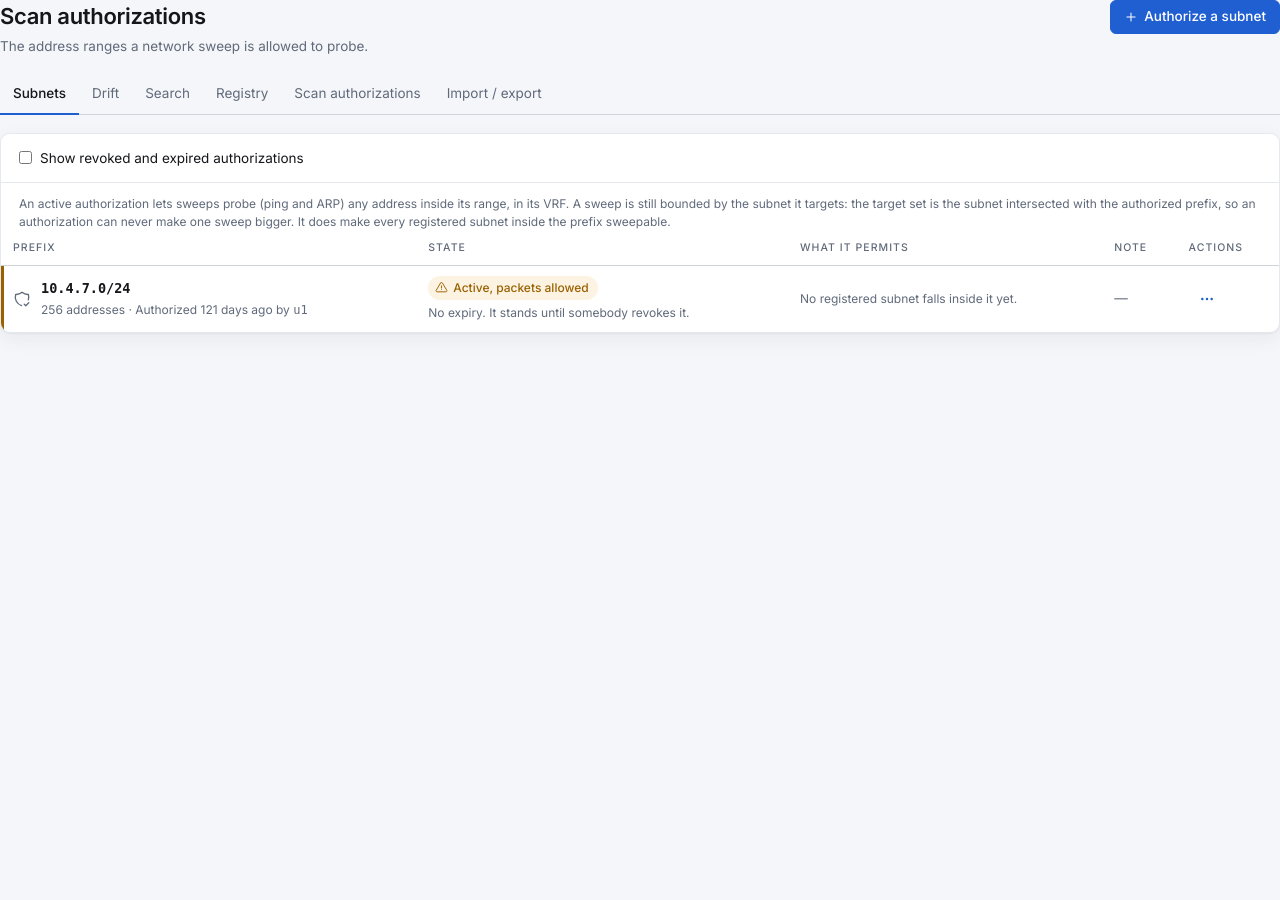
Test: a failure the user must be told about is announced, and is a sentence › believes a server that explained itself in plain text
Click the button named "More actions for " at (1206, 298), box [1188,280,1224,316]
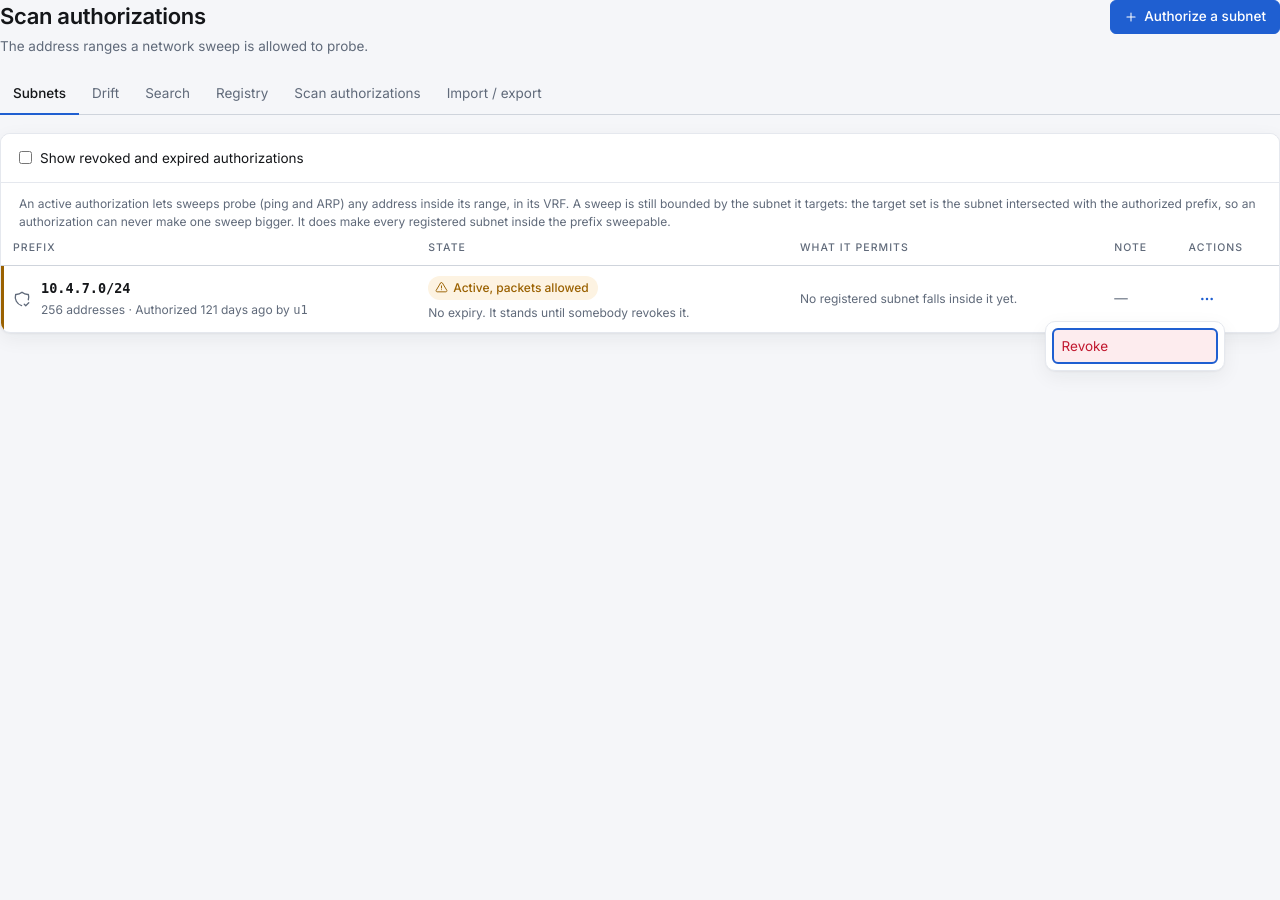
Click the menu item "Revoke" at (1134, 346), box [1052,328,1218,364]
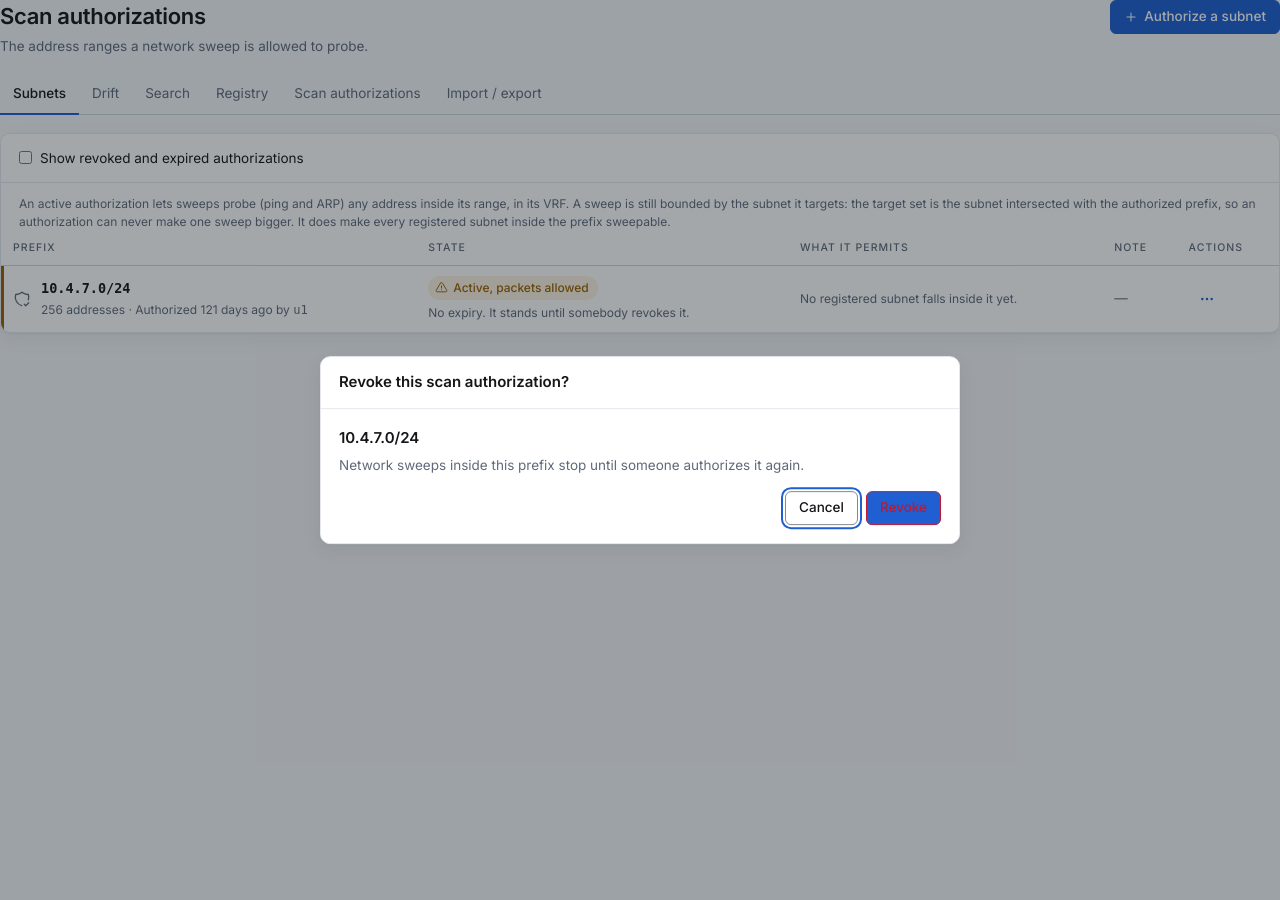
# Revoking asks first.
Click the button "Revoke" at (903, 508), box [866,491,941,525]
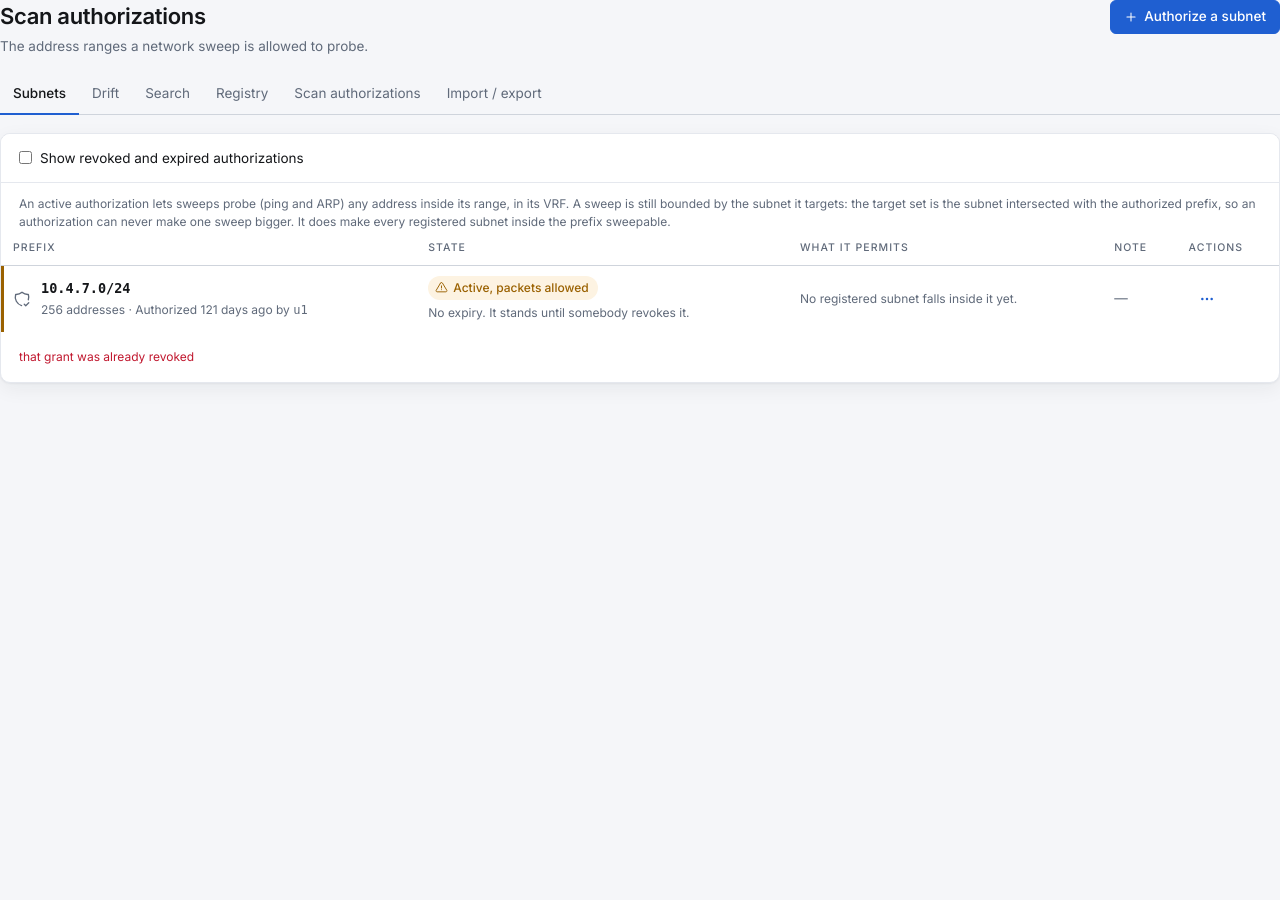
Check: the message reads "that grant was already revoked", box [19,348,194,364]
